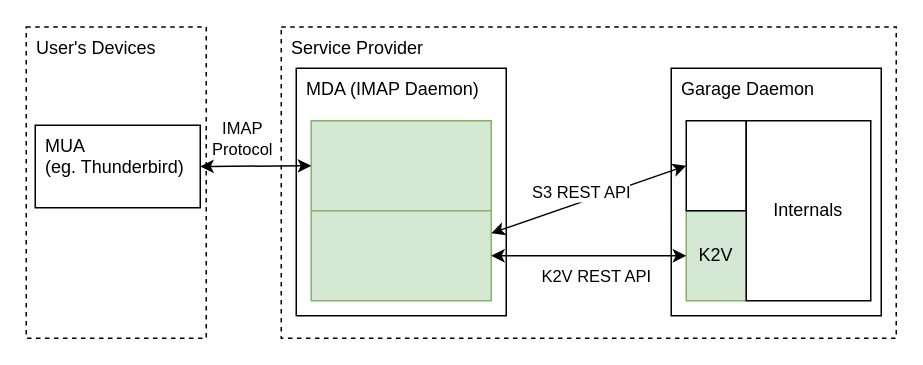
The diagram is 923 pixels wide and 365 high, and some of its shapes have lost their labels. The centre of each missing label's shape, as x and y in pixels:
"Domain Logic (encryption)" goes at point (400, 255).
"IMAP Framework" goes at point (400, 165).
"S3" goes at point (715, 165).
